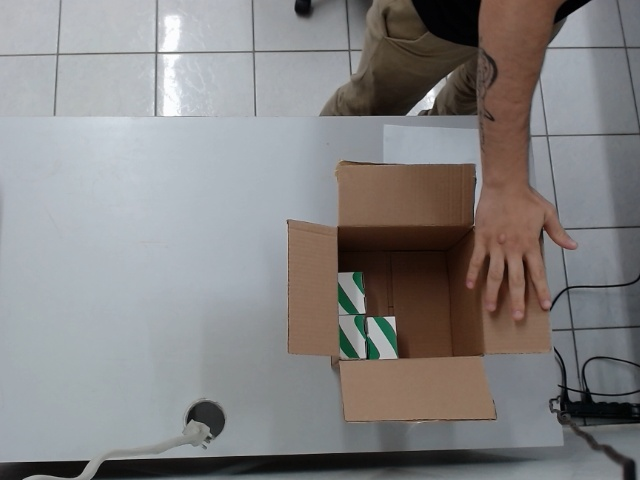caixa_principal: (324, 216, 511, 372)
